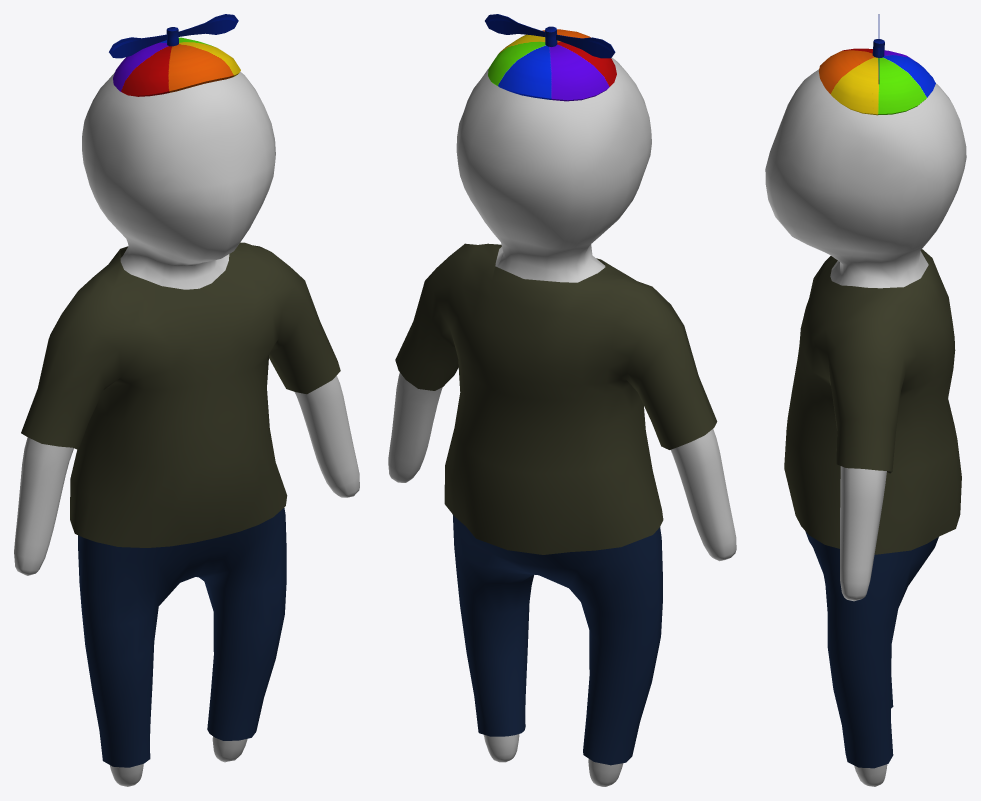
Rendered from Human_SpinnerHat.FBX.
3 views of the same model, side by side, from view 1: azimuth 30°, elevation 25°; view 2: azimuth 150°, elevation 25°; view 3: azimuth 270°, elevation 25° (orthographic). The views are drawn at different scales.
Visible parts, largest first — view 1: HumanMesh, Spinner; view 2: HumanMesh, Spinner; view 3: HumanMesh.
Part boxes in pixels (x1,y1,x2,y2): HumanMesh: (14,37,359,786); Spinner: (109,14,238,58); HumanMesh: (388,29,736,786); Spinner: (485,14,615,58); HumanMesh: (765,48,966,786).
Size of the model in its own units: 58.87 by 123 by 30.95.
